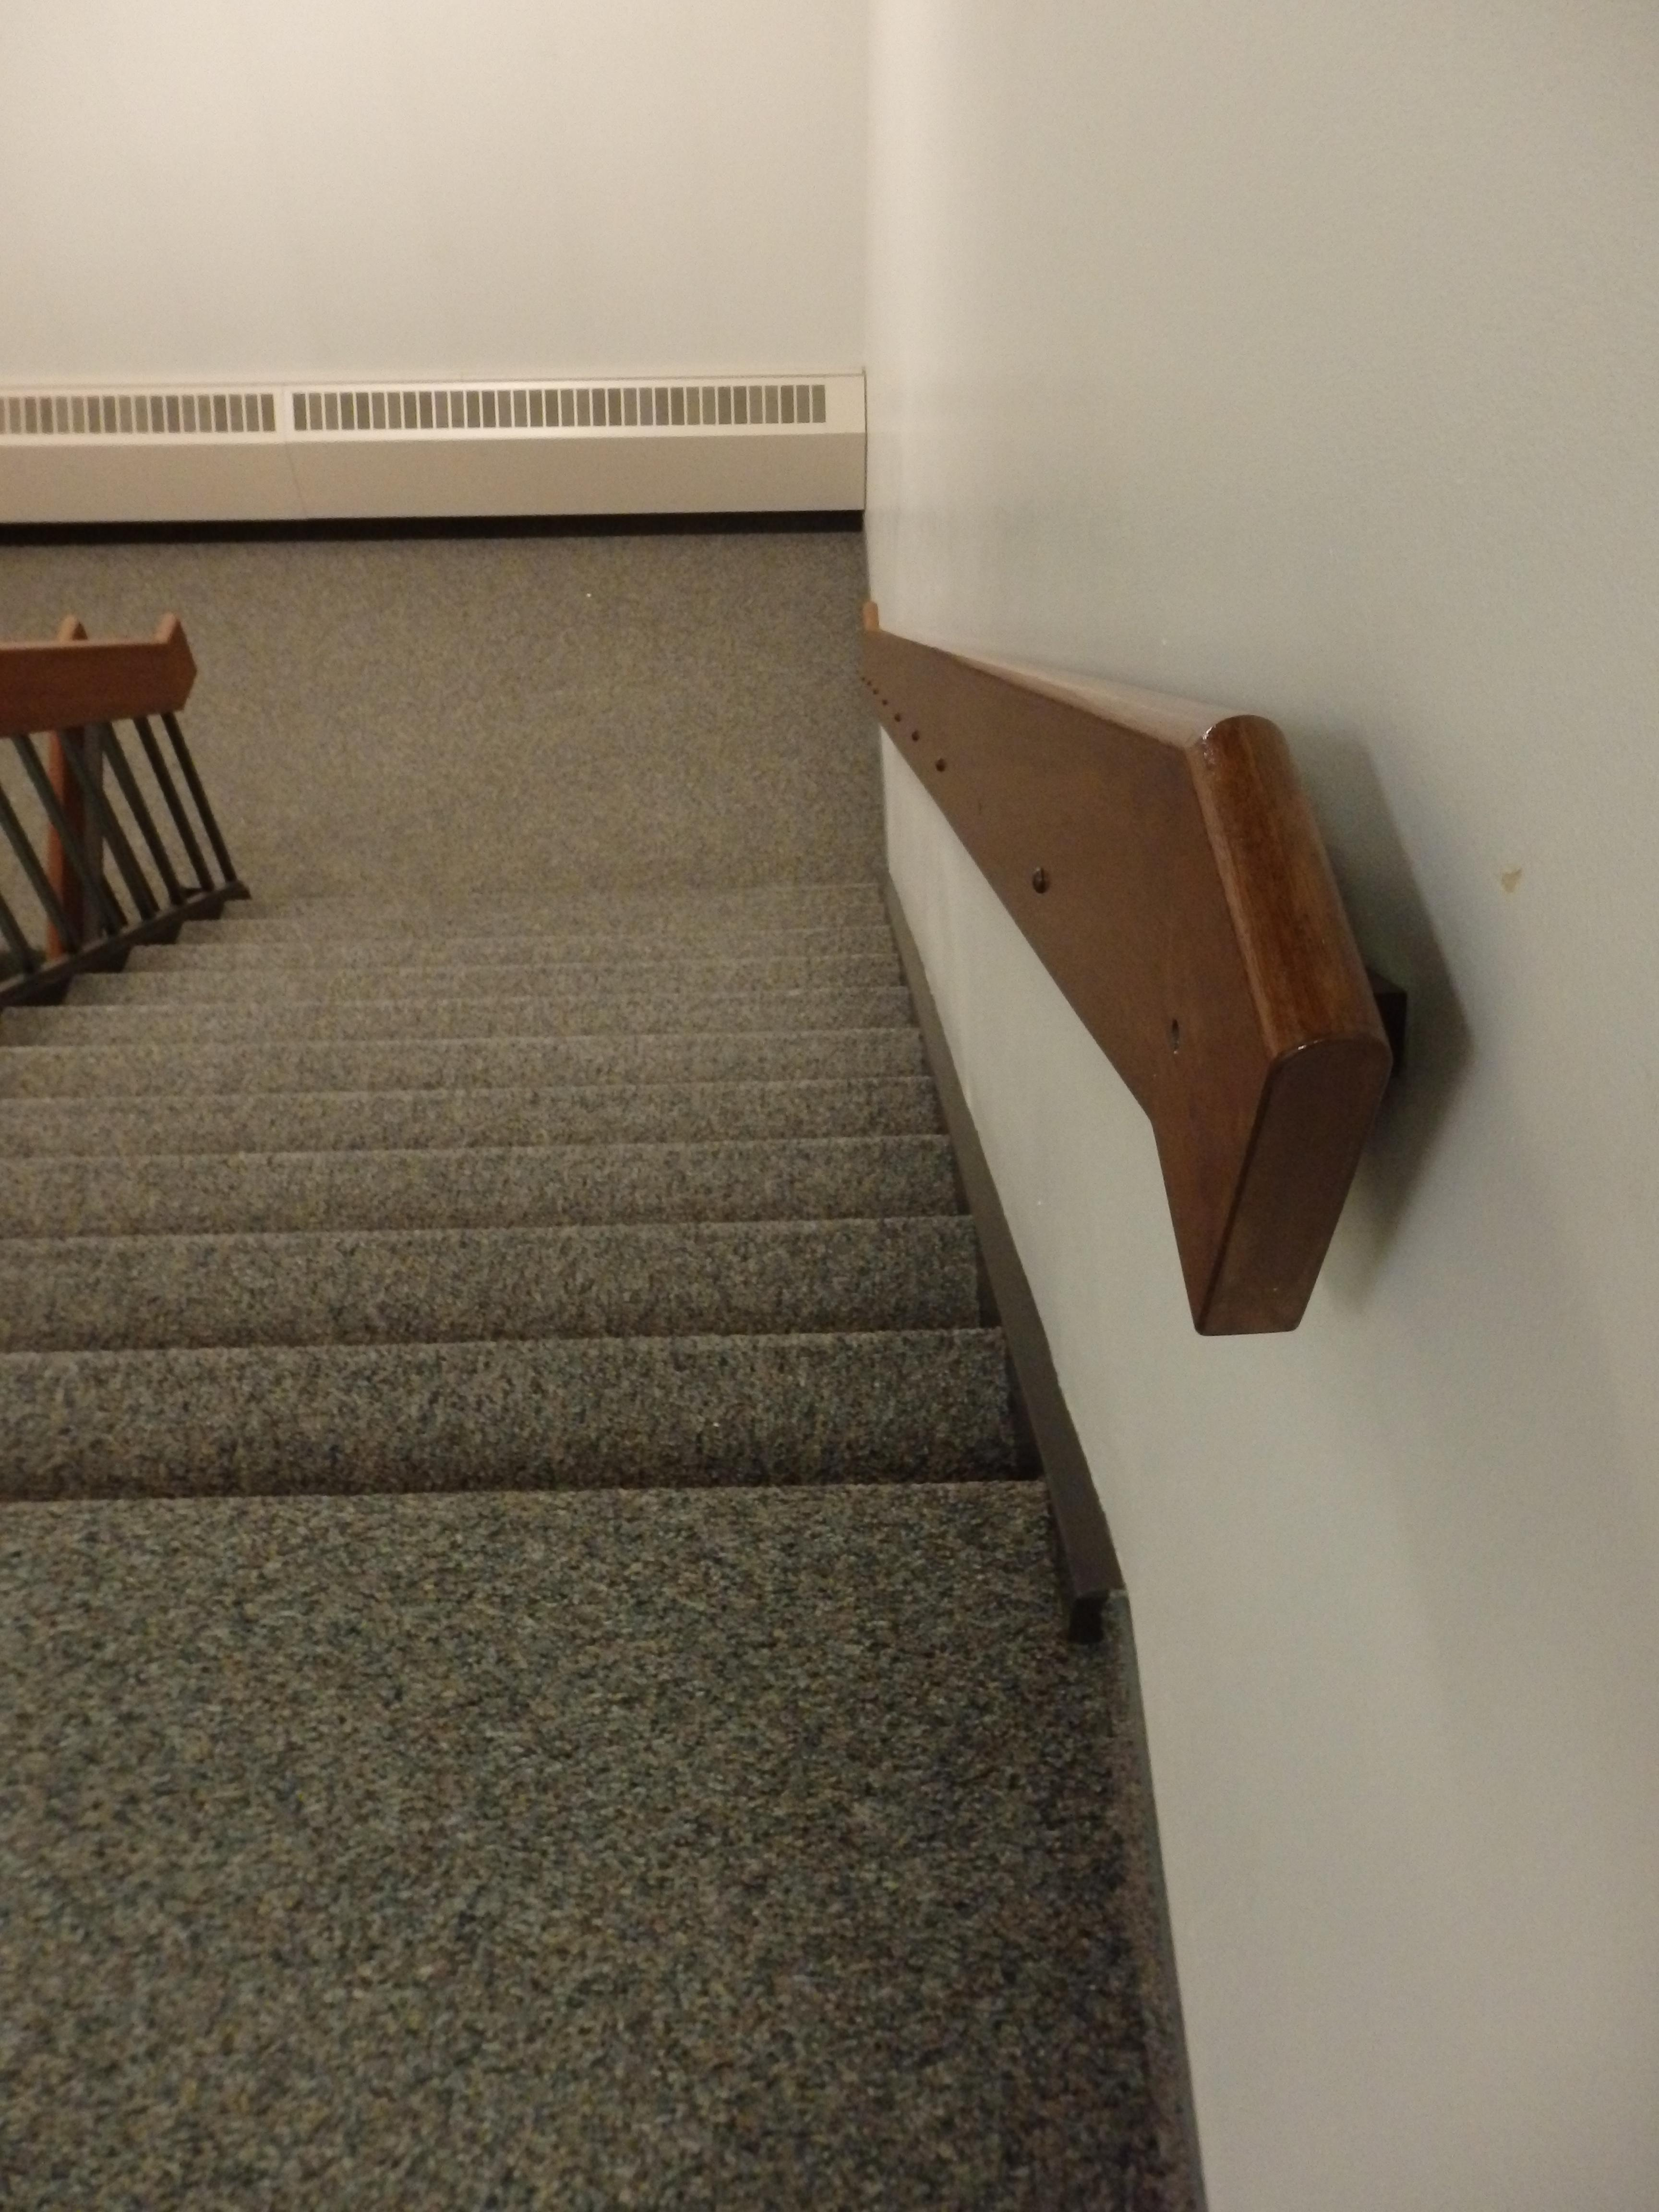stairs_down: (7, 874, 1009, 1515)
